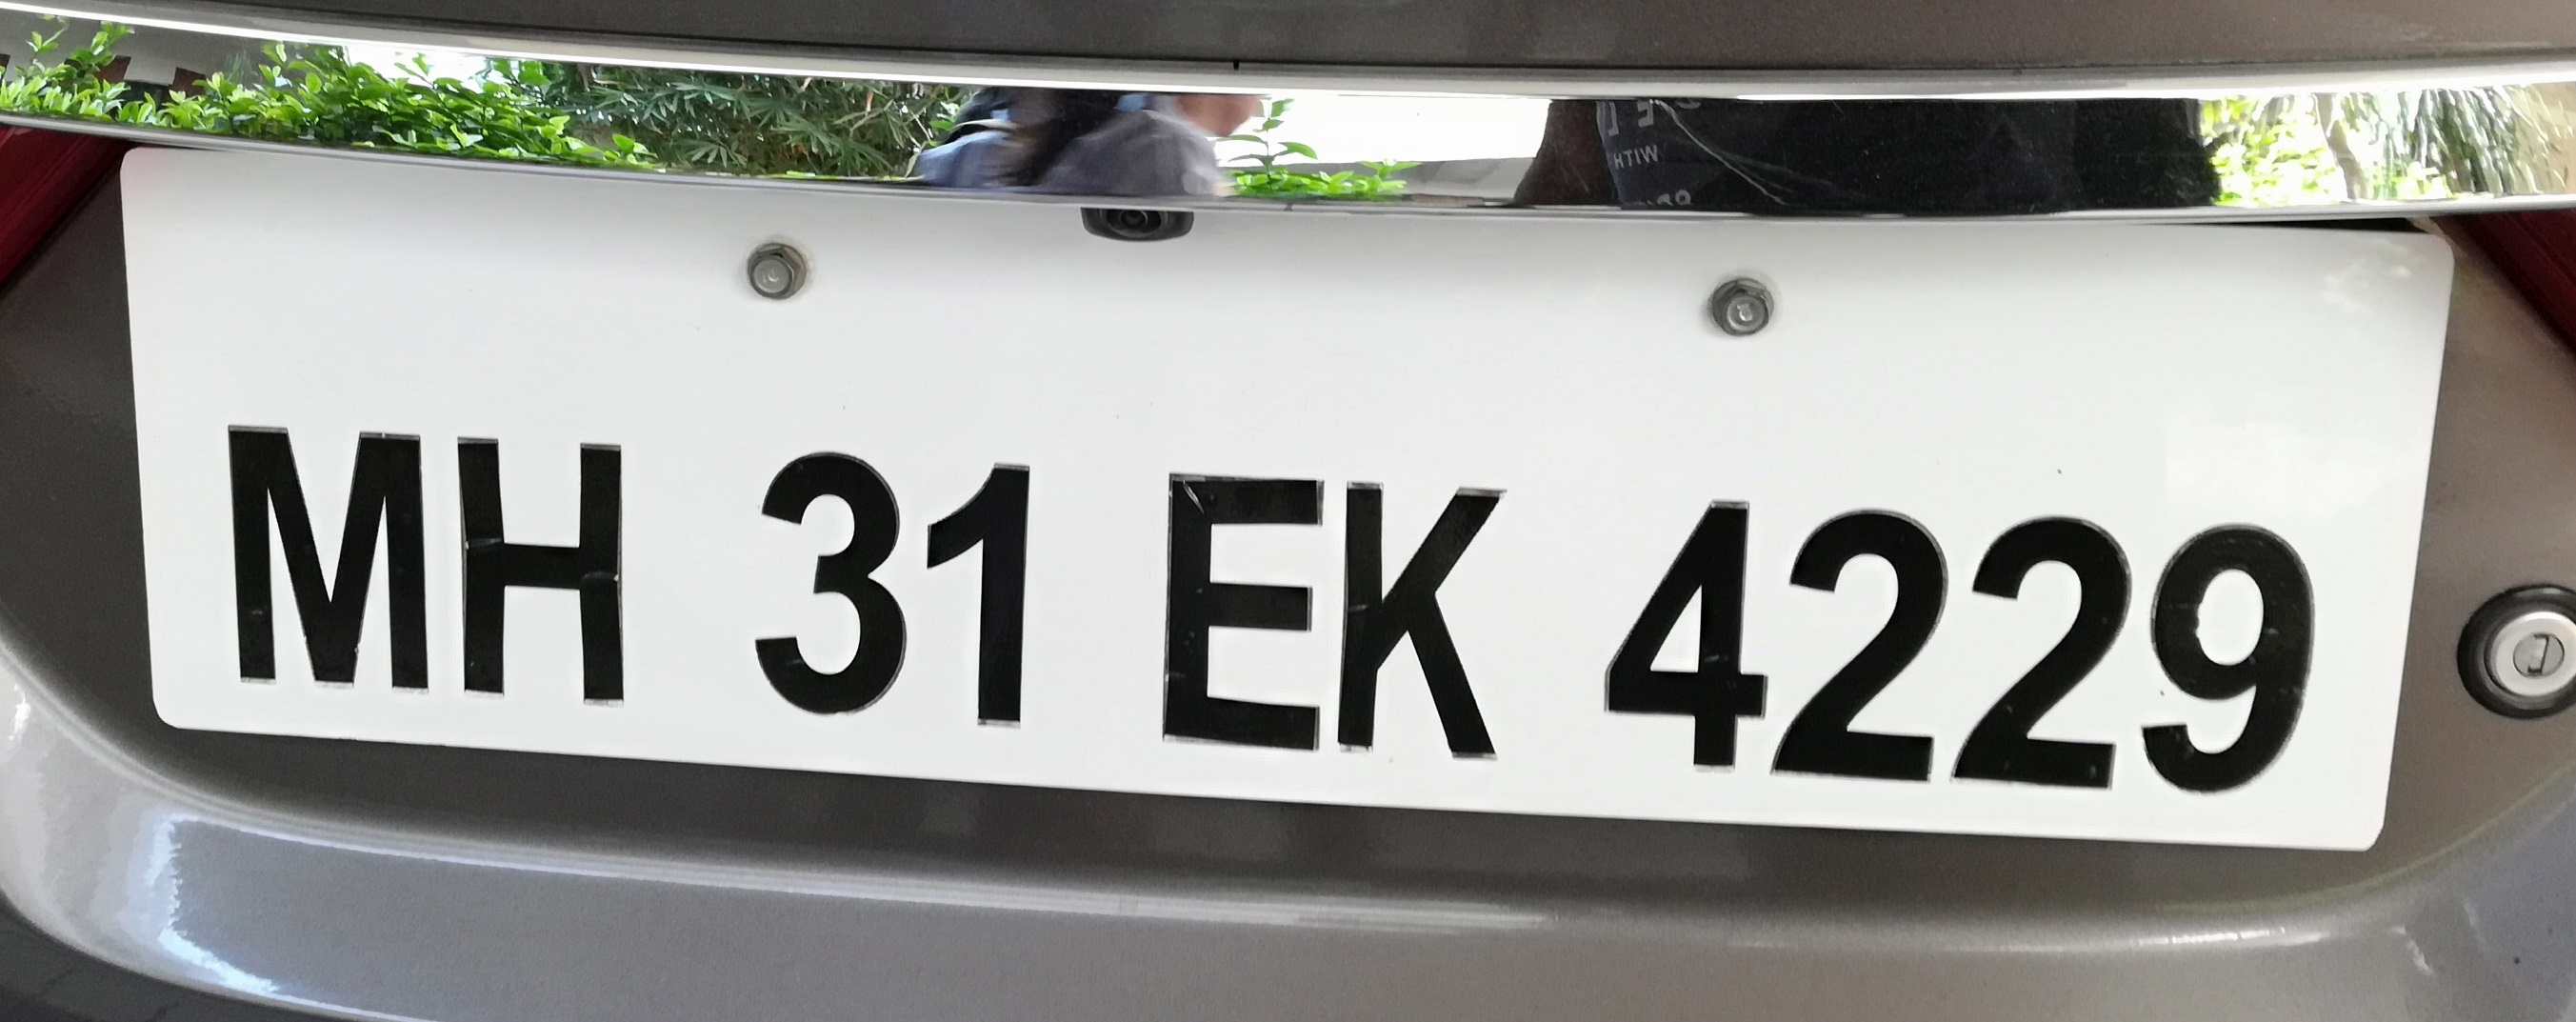numberplate: (105, 141, 2460, 852)
